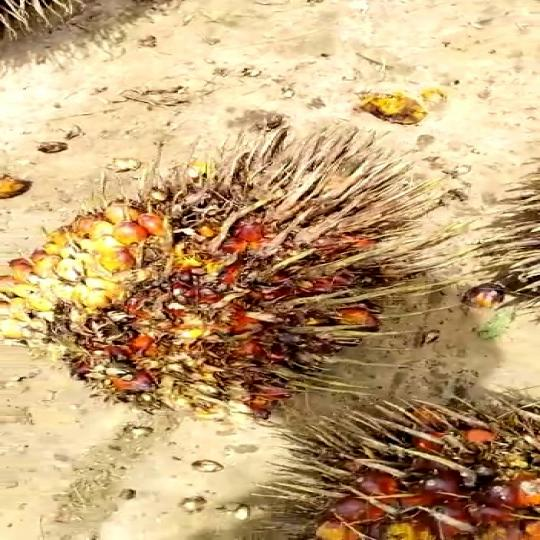terlalu masak: (0, 122, 493, 419)
